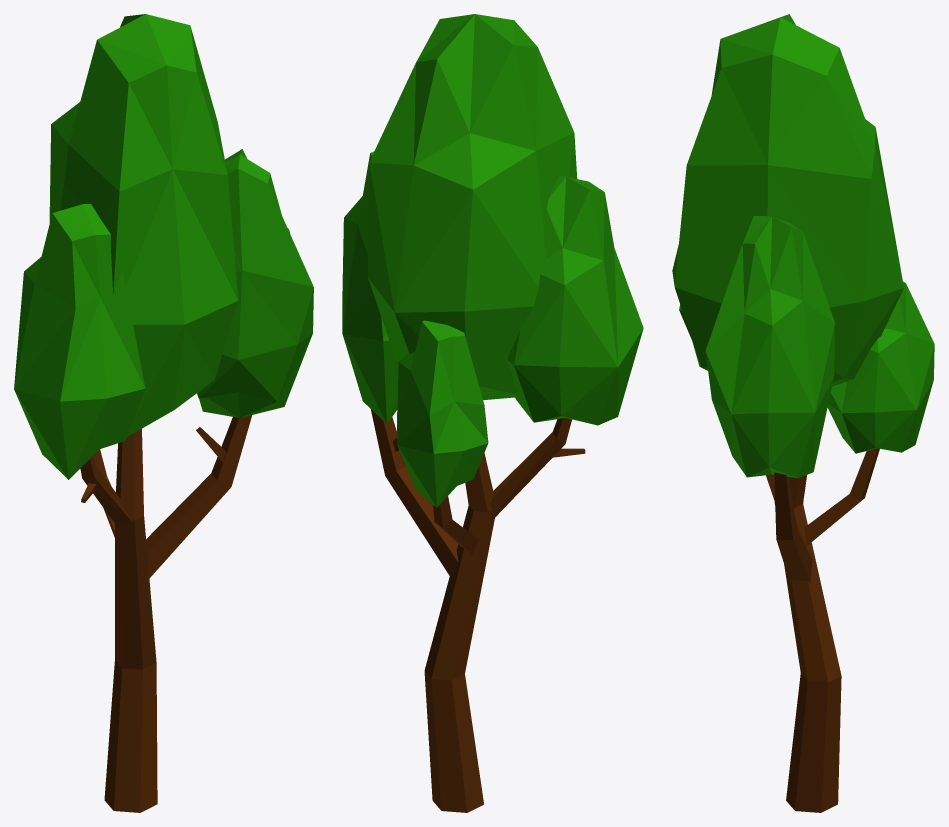
The model's file is Tree_temp_climate_005.FBX.
3 views of the same model, side by side, from view 1: azimuth 30°, elevation 25°; view 2: azimuth 150°, elevation 25°; view 3: azimuth 270°, elevation 25° (orthographic). The views are drawn at different scales.
Parts seen in each view (by area): view 1: Tree_temp_climate_005; view 2: Tree_temp_climate_005; view 3: Tree_temp_climate_005.
Part boxes in pixels (x1=…): Tree_temp_climate_005: x1=14, y1=14, x2=313, y2=812; Tree_temp_climate_005: x1=342, y1=14, x2=643, y2=812; Tree_temp_climate_005: x1=672, y1=14, x2=934, y2=812.
Bounding box in the file's own units: 244 × 661 × 200.
